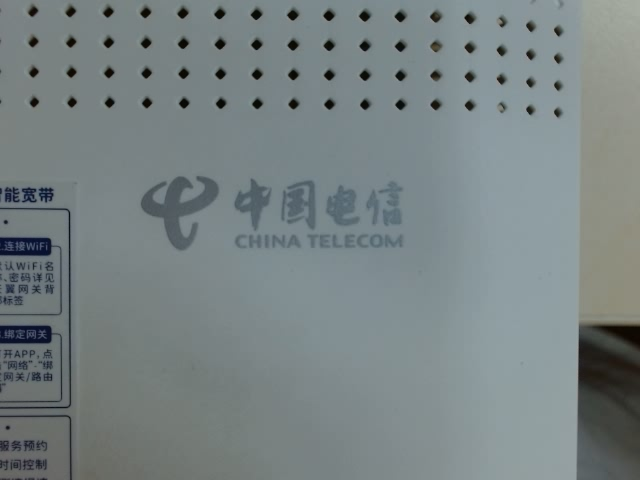AB_ChinaTelecom: (125, 149, 419, 271)
